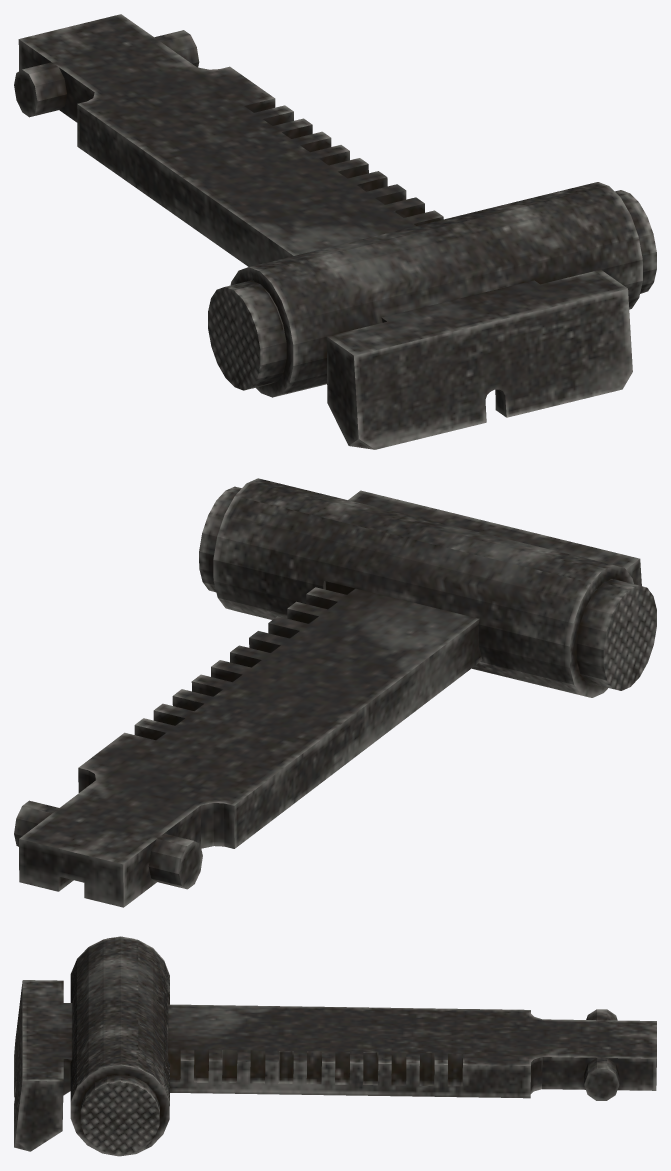
3 views of the same model, one above another, from view 1: azimuth 30°, elevation 25°; view 2: azimuth 150°, elevation 25°; view 3: azimuth 270°, elevation 25° (orthographic). The views are drawn at different scales.
Visible parts, largest first — view 1: TW_59e8977386f77415a553c453_PZ_Import; view 2: TW_59e8977386f77415a553c453_PZ_Import; view 3: TW_59e8977386f77415a553c453_PZ_Import.
Boxes of the visible parts, bbox=[...] form: TW_59e8977386f77415a553c453_PZ_Import: bbox=[14, 14, 656, 449]; TW_59e8977386f77415a553c453_PZ_Import: bbox=[14, 478, 656, 907]; TW_59e8977386f77415a553c453_PZ_Import: bbox=[14, 936, 656, 1156].
Bounding box in the file's own units: 0.018 × 0.0336 × 0.00597.
1 material, 1 textured.
